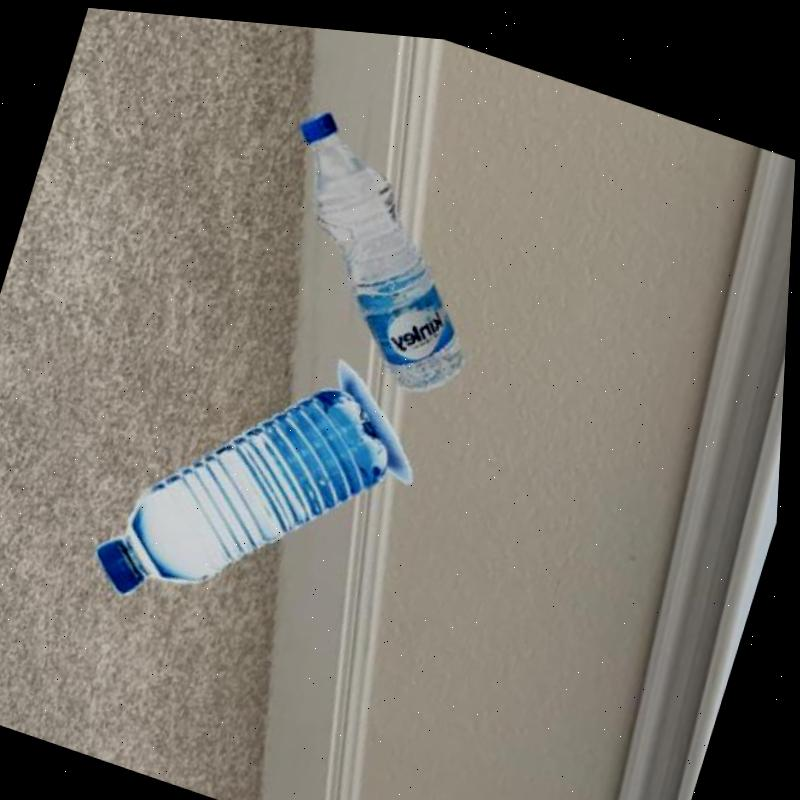botella: (91, 322, 415, 664), (239, 95, 527, 403)
